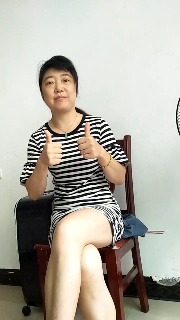hand: (45, 131, 60, 166), (82, 126, 95, 161)
